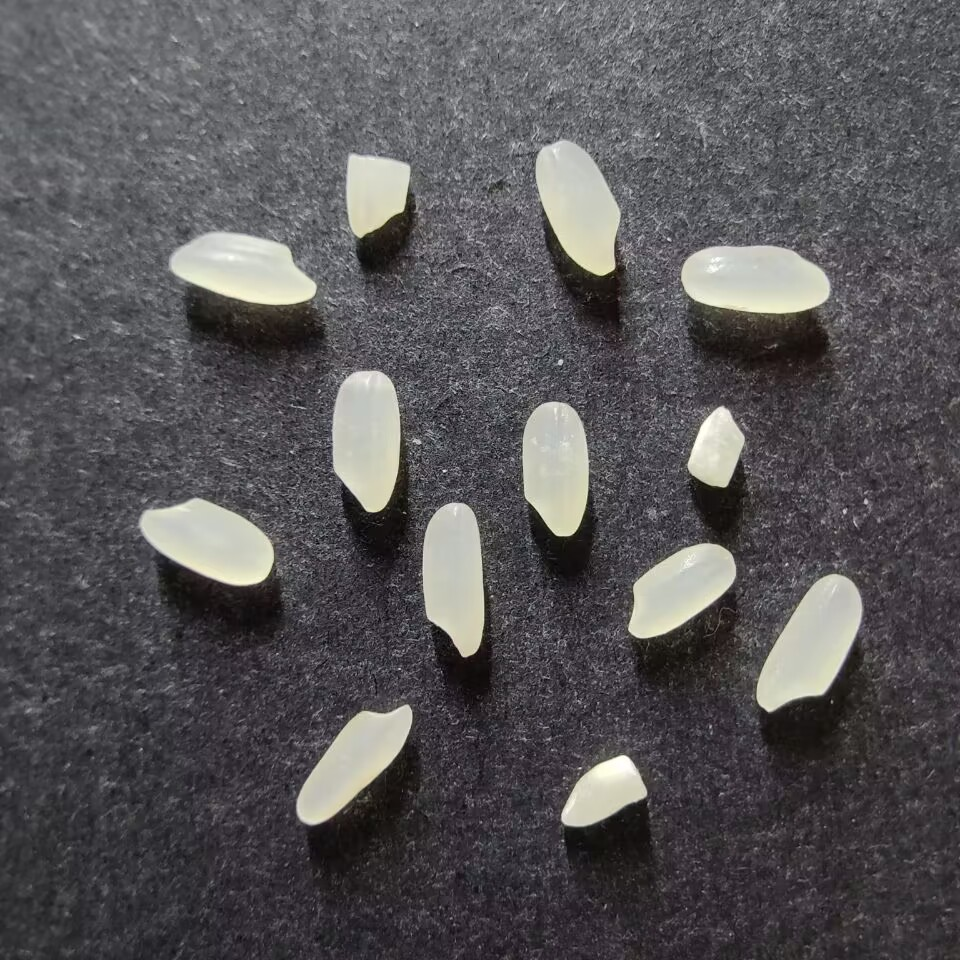broken: (559, 755, 647, 827), (345, 153, 411, 238), (687, 405, 745, 488)
rice: (755, 573, 862, 712), (295, 704, 412, 826), (138, 497, 273, 586), (534, 139, 620, 276), (168, 232, 317, 305), (626, 543, 736, 639), (680, 245, 831, 314), (420, 502, 484, 658), (330, 369, 399, 513), (520, 400, 588, 538)
